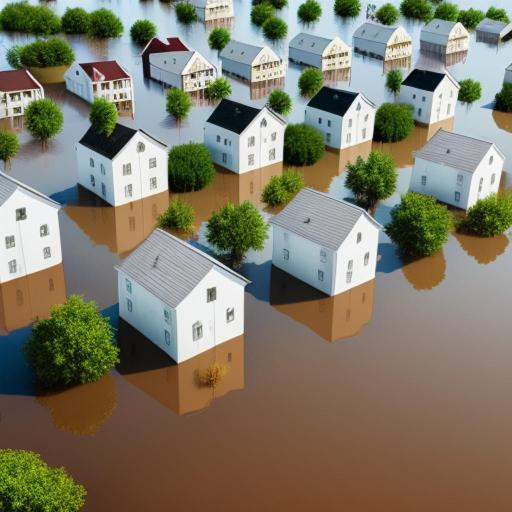flood: (0, 230, 512, 512), (0, 83, 283, 349), (296, 16, 512, 224), (31, 0, 220, 147), (224, 0, 400, 123), (0, 30, 39, 70), (446, 0, 512, 19), (378, 0, 398, 6), (363, 0, 378, 4), (225, 22, 228, 25)
house: (120, 221, 250, 367), (267, 183, 385, 305), (413, 122, 507, 220), (73, 119, 173, 211), (0, 168, 74, 286), (205, 93, 285, 181), (311, 82, 375, 156), (146, 36, 220, 96), (401, 64, 457, 129), (68, 61, 134, 113), (224, 35, 284, 89), (294, 30, 356, 80), (287, 33, 352, 73), (358, 19, 412, 67), (0, 69, 42, 129), (419, 17, 468, 63), (474, 14, 511, 46), (204, 1, 235, 35)
